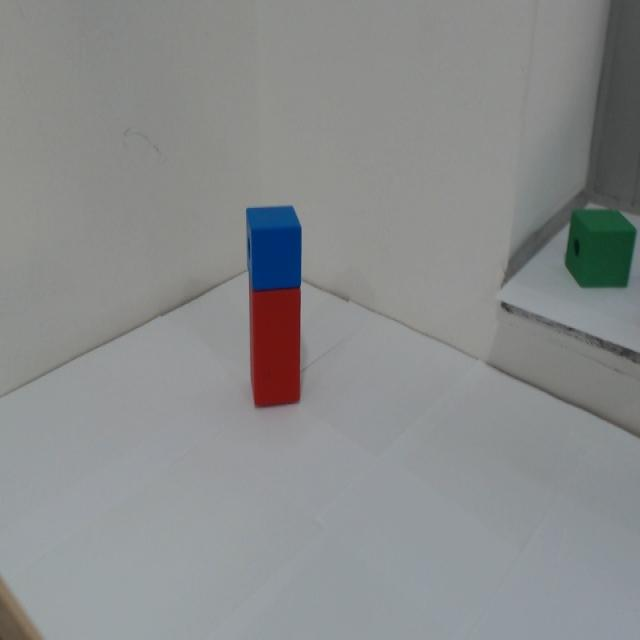cube: (225, 201, 310, 283)
